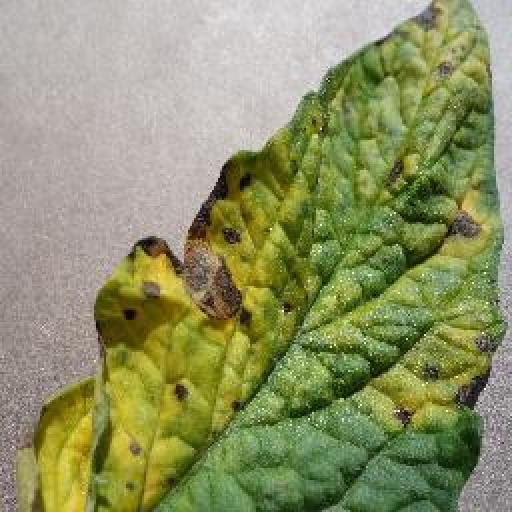disease_tomato: (27, 0, 504, 512)
